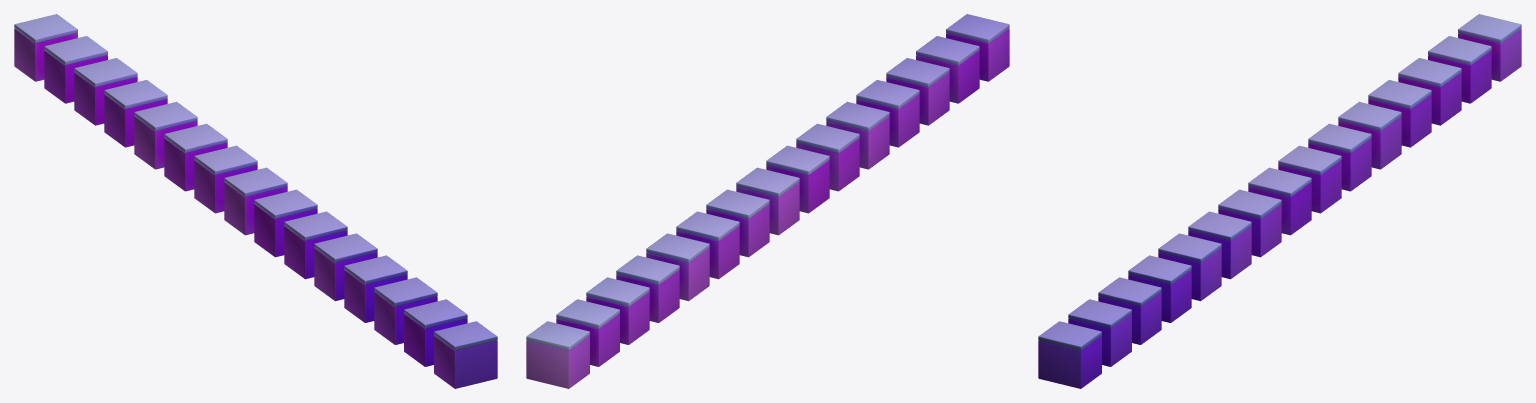
The model's file is SCENE_BAKE.gltf.
3 views of the same model, side by side, from view 1: azimuth 30°, elevation 25°; view 2: azimuth 150°, elevation 25°; view 3: azimuth 330°, elevation 25° (orthographic).
Parts seen in each view (by area): view 1: Cloner; view 2: Cloner; view 3: Cloner.
Boxes of the visible parts, x1,y1,x2,y2 form: Cloner: [14, 14, 497, 388]; Cloner: [526, 14, 1009, 388]; Cloner: [1038, 14, 1521, 388].
Size of the model in its own units: 75.38 by 71.61 by 1344.
Materials: 1 (1 with a texture image).
